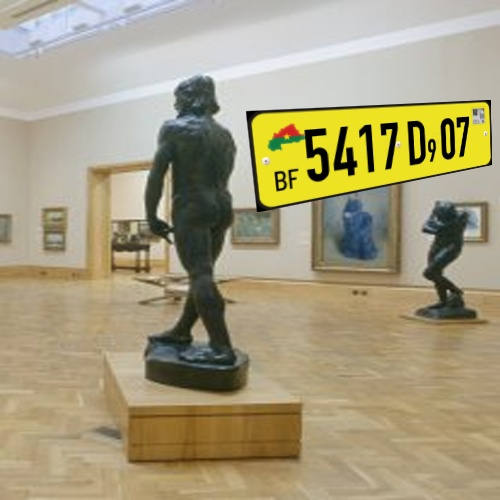plate: (223, 88, 499, 210)
